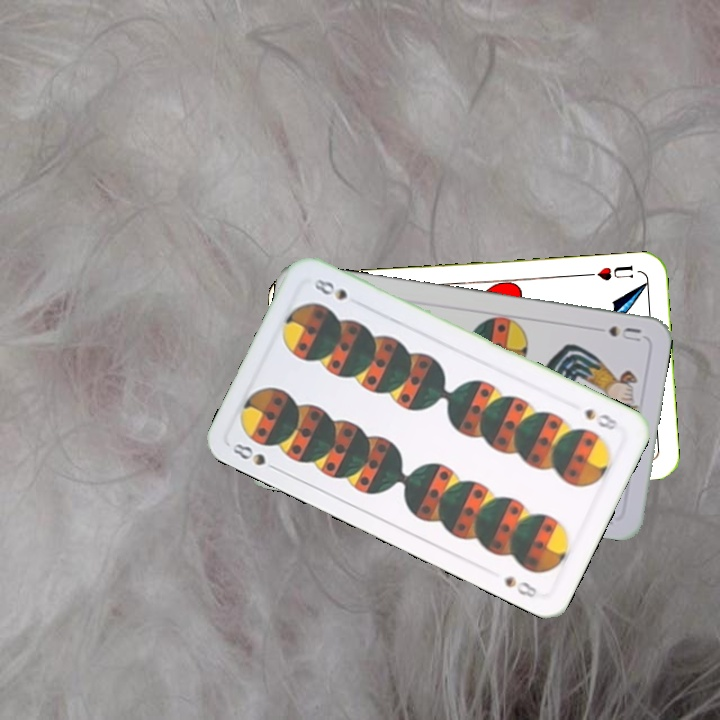HU: (582, 261, 636, 283)
S8: (228, 439, 282, 475), (580, 404, 622, 433)
SU: (605, 321, 644, 344)
